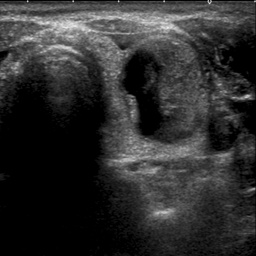mass: (122, 36, 208, 141)
